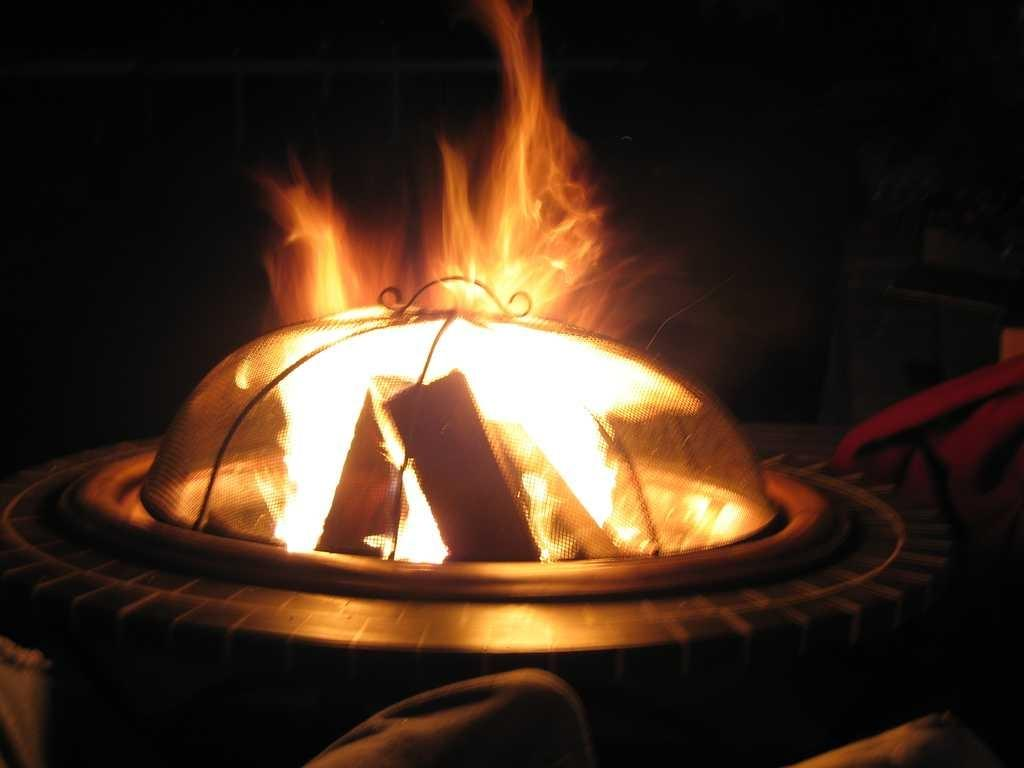fire: (478, 336, 576, 420), (286, 340, 348, 440)
